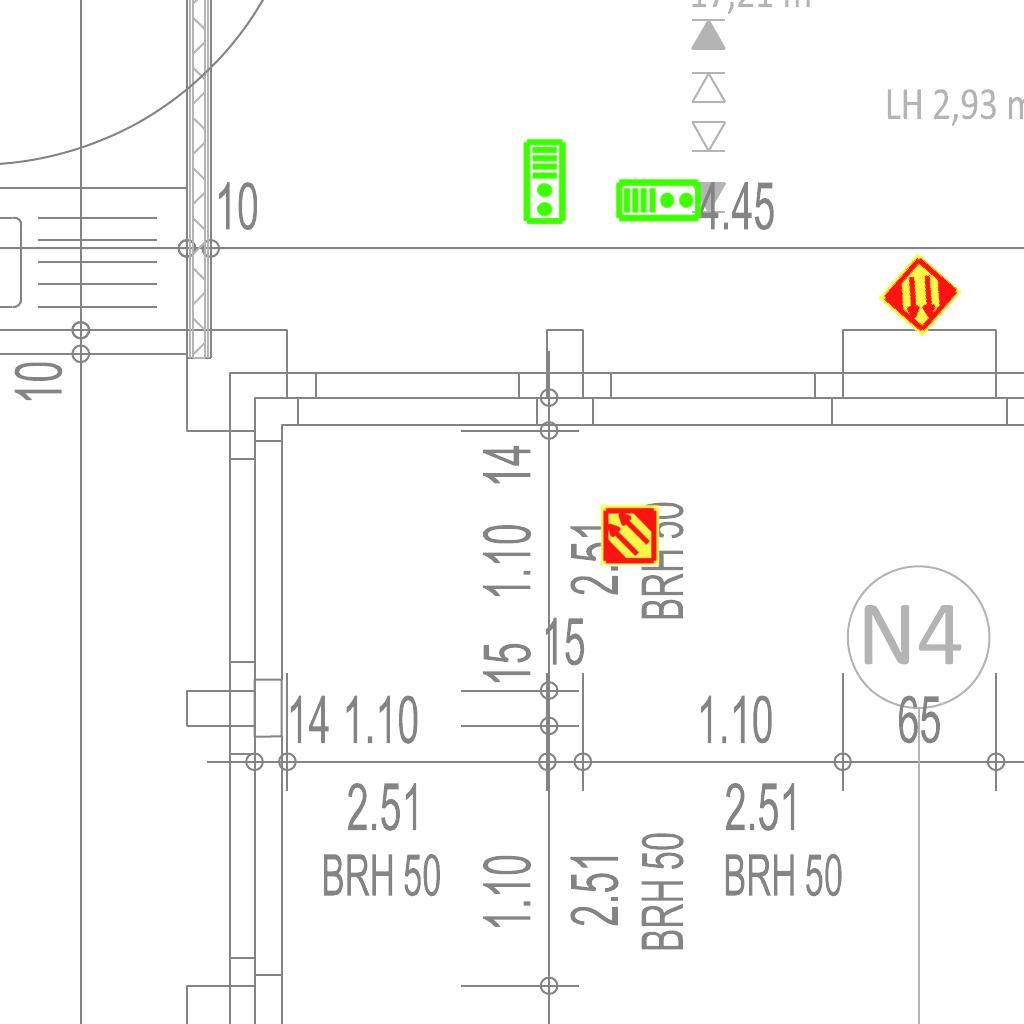ASR_Ansaugrauchmelder: (876, 251, 964, 339), (599, 504, 661, 566)
Gegensprechanlage_mit_Video: (615, 176, 703, 223), (522, 138, 569, 226)
